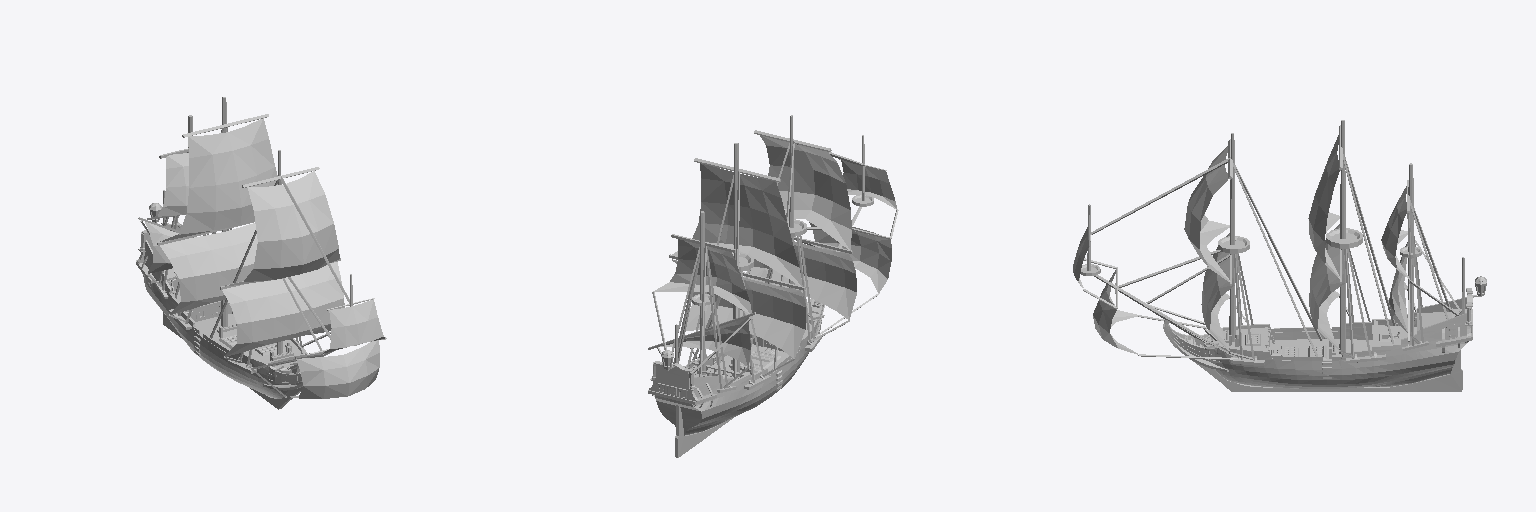
File: ships.obj
3 renders of one model, left to right at view 1: azimuth 30°, elevation 25°; view 2: azimuth 150°, elevation 25°; view 3: azimuth 270°, elevation 25°, orthographic.
Visible parts, largest first — view 1: Frigate_Blocking; view 2: Frigate_Blocking; view 3: Frigate_Blocking.
Part boxes in pixels (bbox=[...]): Frigate_Blocking: bbox=[136, 97, 386, 409]; Frigate_Blocking: bbox=[648, 115, 898, 457]; Frigate_Blocking: bbox=[1073, 120, 1486, 391].
Bounding box in the file's own units: 4.45 × 8.52 × 11.8.